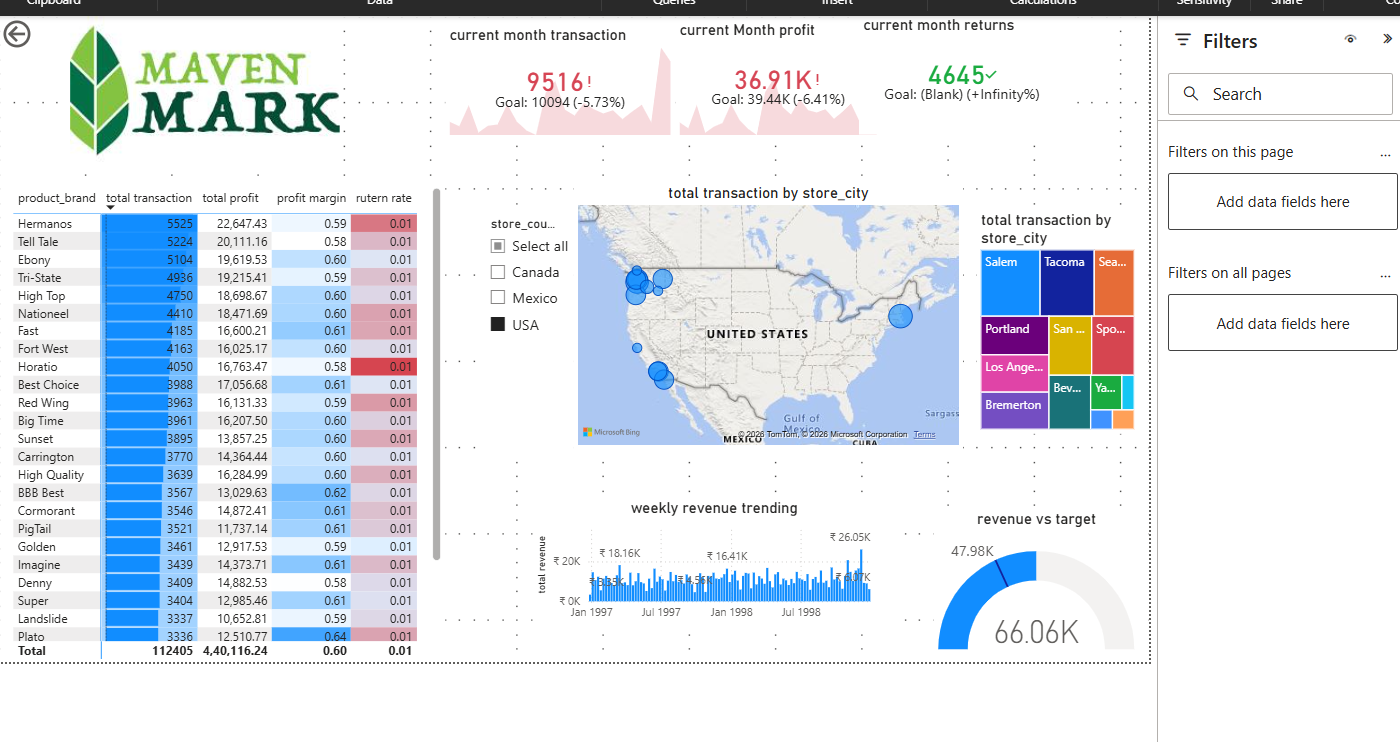

What the dashboard file says about the page in this screenshot:
{"tool":"powerbi","page":{"name":"topline performance","canvas":[1280,720],"ordinal":1},"visuals":[{"type":"image","box":[0,0,458.3,164.7],"z":0},{"type":"pivotTable","fields":{"Rows":["Products.product_brand"],"Values":["transaction.total transaction","transaction.total profit","transaction.profit margin","Return data.rutern rate"]},"box":[11.1,186.4,485.6,534.3],"z":1000},{"type":"kpi","title":"current month transaction","fields":{"Indicator":["transaction.total transaction"],"TrendLine":["Calendar.Start of Month"],"Goal":["Calendar.last month transactions"]},"box":[496.7,11.1,256,126.6],"z":2000},{"type":"kpi","title":"current Month profit","fields":{"Indicator":["transaction.total profit"],"Goal":["Calendar.last month profit"],"TrendLine":["Calendar.Start of Month"]},"box":[752.7,5.6,229.6,132.2],"z":3000},{"type":"kpi","title":"current month returns","fields":{"Indicator":["Return data.total returns"],"Goal":["Return data.last month returns"],"TrendLine":["Calendar.Start of Month"]},"box":[957.5,0,229.4,132.2],"z":4000},{"type":"map","fields":{"Size":["transaction.total transaction"],"Category":["Stores.store_city"]},"box":[640,186.4,432.7,296.3],"z":5000},{"type":"slicer","fields":{"Values":["Stores.store_country"]},"box":[534.3,217,105.7,267.1],"z":6000},{"type":"treemap","fields":{"Group":["Stores.store_country","Stores.store_state","Stores.store_city"],"Values":["transaction.total transaction"]},"box":[1088.4,216.9,180.8,248.1],"z":7000},{"type":"actionButton","box":[0,0,100,40],"z":8000},{"type":"clusteredColumnChart","title":"weekly revenue trending","fields":{"Category":["Calendar.Start of Week"],"Y":["transaction.total revenue"]},"box":[594.7,537.4,403.9,144.6],"z":9000},{"type":"gauge","title":"revenue vs target","fields":{"Y":["transaction.total revenue"],"TargetValue":["Calendar.revenue target"]},"box":[1041,549.8,228.2,160.8],"z":10000}]}

Visuals, with their boxes on the page's 1280x720 design canvas (x1, y1, x2, y2). These are canvas units, not pixel positions in the 1400x742 screenshot, which may show the page scaled, cropped or inside an application window:
image: locate(0, 0, 458, 165)
pivotTable - Products.product_brand x transaction.total transaction: locate(11, 186, 497, 721)
"current month transaction" kpi: locate(497, 11, 753, 138)
"current Month profit" kpi: locate(753, 6, 982, 138)
"current month returns" kpi: locate(958, 0, 1187, 132)
map - transaction.total transaction x Stores.store_city: locate(640, 186, 1073, 483)
slicer - Stores.store_country: locate(534, 217, 640, 484)
treemap - Stores.store_country x Stores.store_state: locate(1088, 217, 1269, 465)
actionButton: locate(0, 0, 100, 40)
"weekly revenue trending" clusteredColumnChart: locate(595, 537, 999, 682)
"revenue vs target" gauge: locate(1041, 550, 1269, 711)
